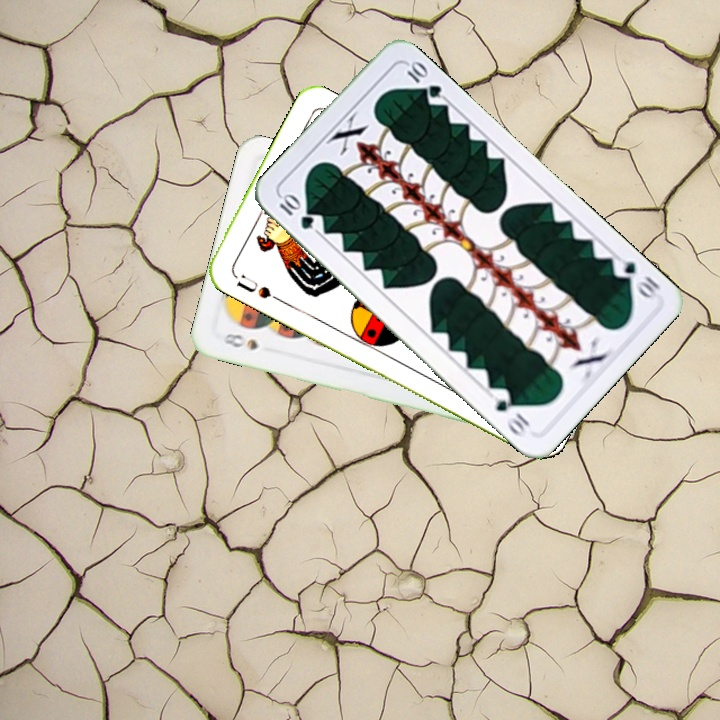G10: (608, 253, 664, 301), (274, 190, 317, 233)
S8: (219, 329, 261, 353)
SU: (232, 270, 283, 304)
